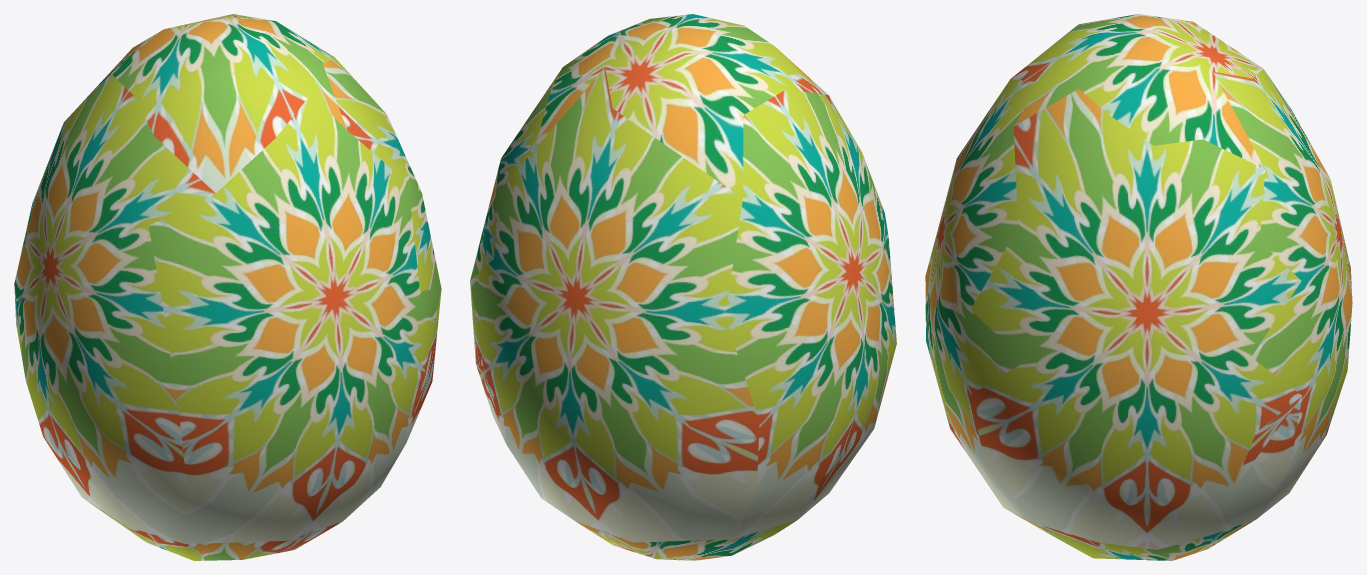
The model's file is egg.glb.
3 views of the same model, side by side, from view 1: azimuth 30°, elevation 25°; view 2: azimuth 150°, elevation 25°; view 3: azimuth 270°, elevation 25° (orthographic).
Visible parts, largest first — view 1: Egg 3; view 2: Egg 3; view 3: Egg 3.
Part boxes in pixels (bbox=[...]): Egg 3: bbox=[14, 14, 441, 560]; Egg 3: bbox=[470, 14, 896, 560]; Egg 3: bbox=[925, 14, 1352, 560].
Bounding box in the file's own units: 0.0353 × 0.0475 × 0.0352.
1 material, 1 textured.
